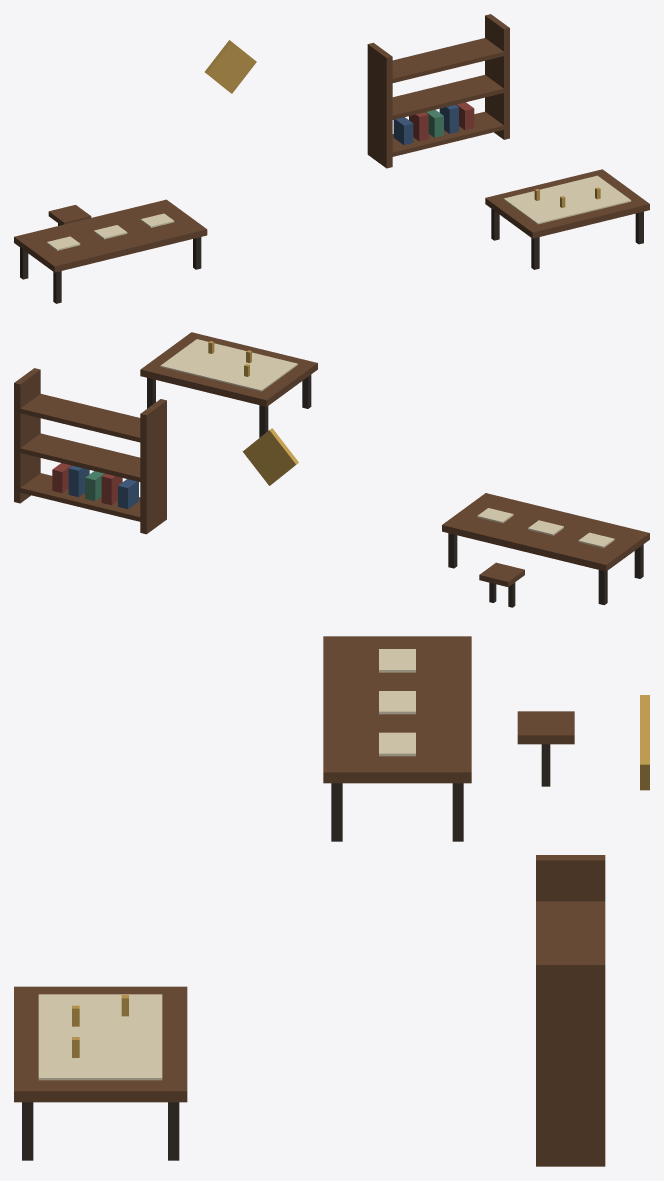
Rendered from guild_office.glb.
3 views of the same model, one above another, from view 1: azimuth 30°, elevation 25°; view 2: azimuth 150°, elevation 25°; view 3: azimuth 270°, elevation 25° (orthographic). The views are drawn at different scales.
Parts seen in each view (by area): view 1: guild_office; view 2: guild_office; view 3: guild_office.
Boxes of the visible parts, <box> form: guild_office: <box>14,14,649,303</box>; guild_office: <box>14,332,649,607</box>; guild_office: <box>14,636,649,1166</box>.
Size of the model in its own units: 43.75 by 11.12 by 25.7.
